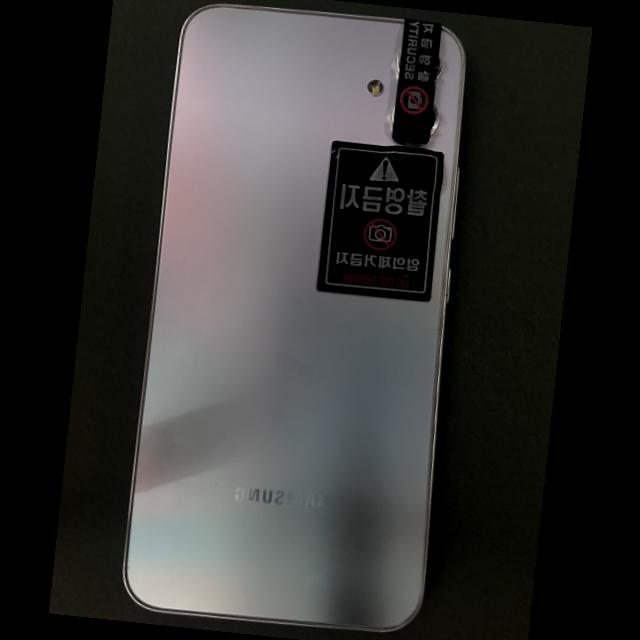lens: (428, 103, 438, 135), (435, 53, 442, 80)
phone: (123, 6, 463, 630)
sticker: (316, 140, 444, 301), (392, 17, 442, 144)
